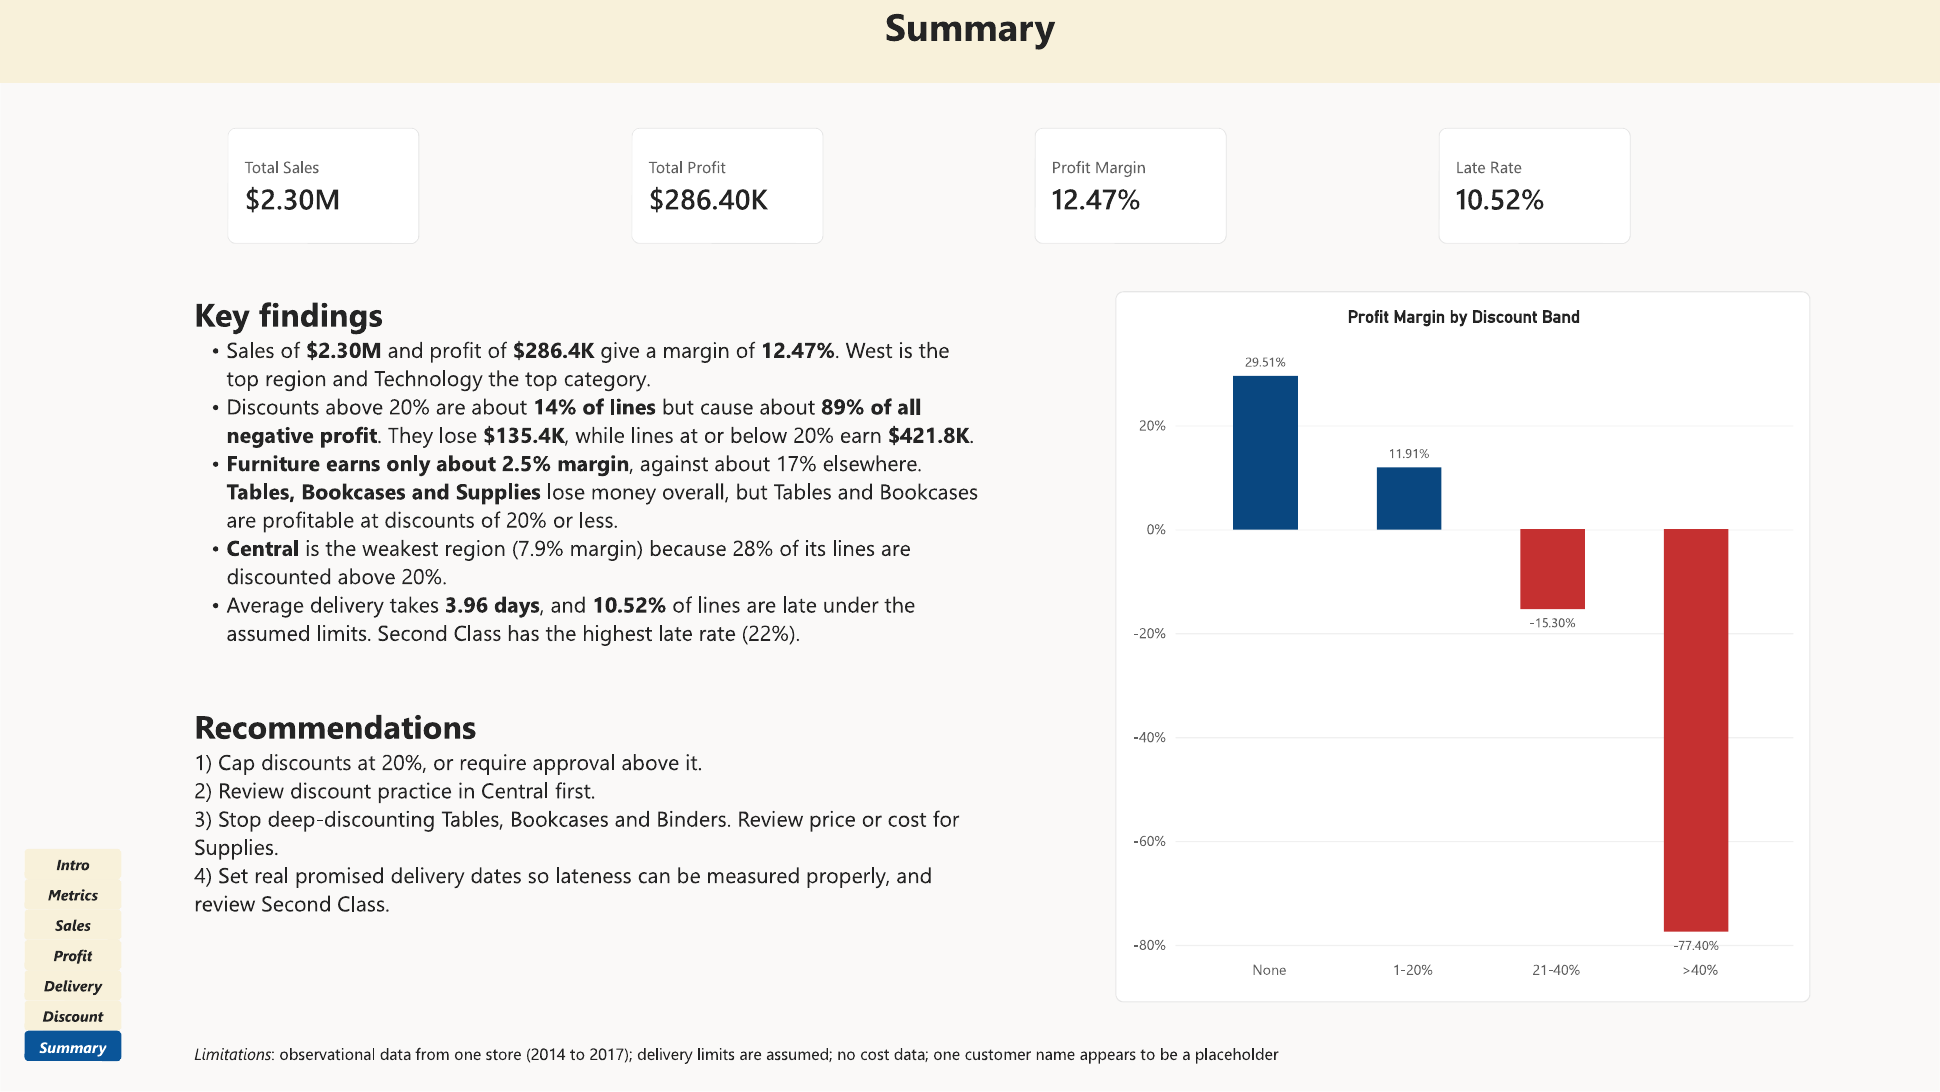

This screenshot's page, from the dashboard's own definition file:
{"tool":"powerbi","page":{"name":"Summary","canvas":[1920,1080],"ordinal":6},"visuals":[{"type":"textbox","box":[0,0,1920.4,82.3],"z":0},{"type":"cardVisual","title":"T","fields":{"Data":["Superstore.Total Sales"]},"box":[224.9,126,190,115],"z":1000},{"type":"cardVisual","fields":{"Data":["Superstore.Total Profit"]},"box":[624.6,126,190,115],"z":2000},{"type":"cardVisual","fields":{"Data":["Superstore.Profit Margin"]},"box":[1024.3,126,190,115],"z":3000},{"type":"cardVisual","fields":{"Data":["Superstore.Late Rate"]},"box":[1424,126,190,115],"z":4000},{"type":"textbox","box":[192,696,792,264],"z":5000},{"type":"textbox","box":[192,288,784,416],"z":6000},{"type":"textbox","box":[192,1032,1608,48],"z":7000},{"type":"clusteredColumnChart","title":"Profit Margin by Discount Band","fields":{"Category":["Superstore.DiscountBand"],"Y":["Superstore.Profit Margin"]},"box":[1104,288,688,704],"z":7001},{"type":"pageNavigator","box":[24,840,96,216],"z":7002}]}

Visuals, with their boxes in screenshot pixels (x1, y1, x2, y2), scaled from the page's 1920x1080 canvas onto the 1940x1092 screenshot:
textbox: BBox(0, 0, 1939, 83)
"T" cardVisual: BBox(227, 127, 419, 244)
cardVisual - Superstore.Total Profit: BBox(631, 127, 823, 244)
cardVisual - Superstore.Profit Margin: BBox(1035, 127, 1227, 244)
cardVisual - Superstore.Late Rate: BBox(1439, 127, 1631, 244)
textbox: BBox(194, 704, 994, 971)
textbox: BBox(194, 291, 986, 712)
textbox: BBox(194, 1043, 1819, 1091)
"Profit Margin by Discount Band" clusteredColumnChart: BBox(1116, 291, 1811, 1003)
pageNavigator: BBox(24, 849, 121, 1068)
